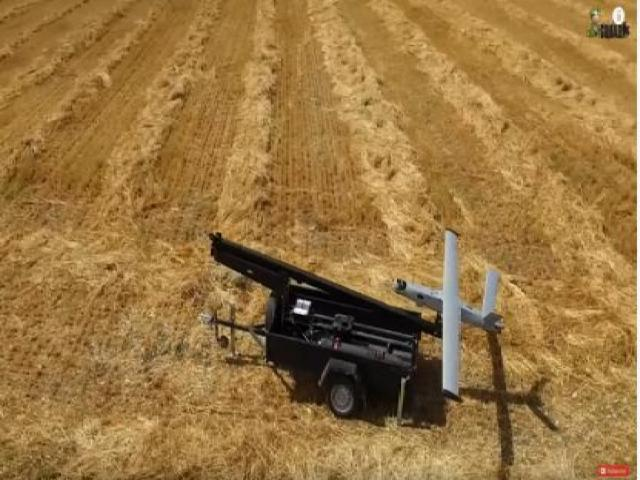uav: (388, 228, 508, 399)
